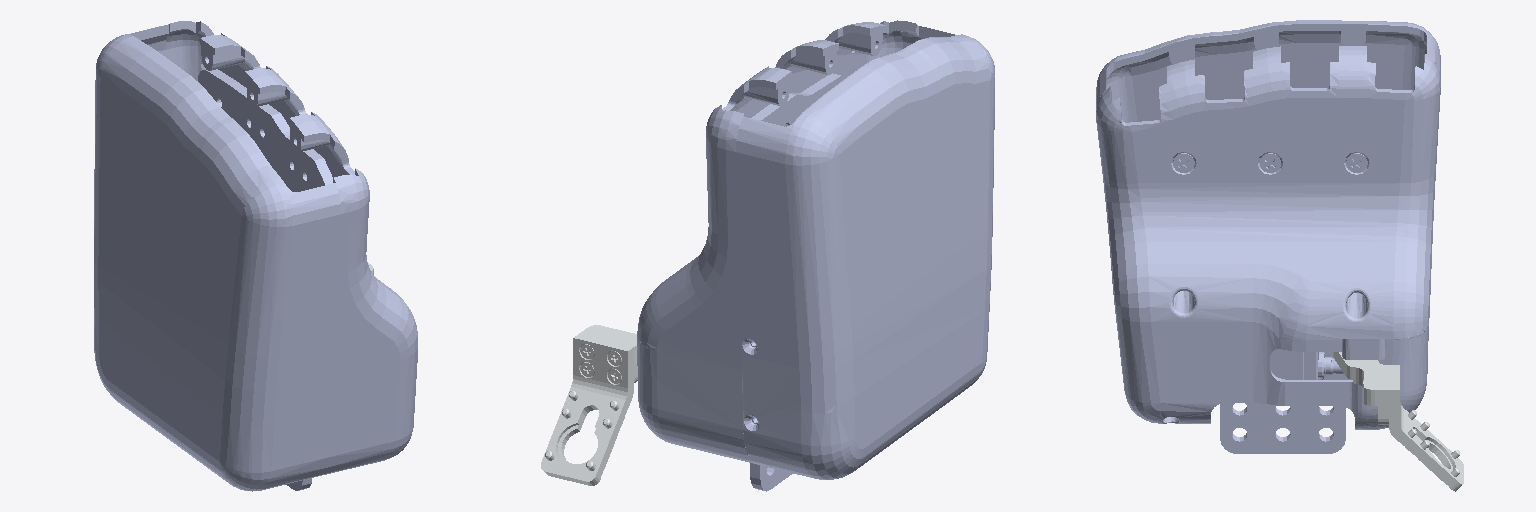
The robot description file, URDF, robot "palm_simple":
<?xml version="1.0" encoding="utf-8"?>
<!-- This URDF was automatically created by SolidWorks to URDF Exporter! Originally created by [author] ([email redacted]) 
     Commit Version: 1.6.0-4-g7f85cfe  Build Version: 1.6.7995.38578
     For more information, please see http://wiki.ros.org/sw_urdf_exporter -->
<robot
  name="palm_simple">
  <link
    name="Base">
    <inertial>
      <origin
        xyz=" -0.00225524 -0.00380216 0.04738621"
        rpy="0 0 0" />
      <mass
        value="0.17112843" />
      <inertia
        ixx="0.00021357"
        ixy="0.00000247"
        ixz="0.00001942"
        iyy="0.00015811"
        iyz="-0.00000822"
        izz="0.00013249" />
    </inertial>
    <visual>
      <origin
        xyz="0 0 0"
        rpy="0 0 0" />
      <geometry>
        <mesh
          filename="package://palm_simple/meshes/Base.STL" />
      </geometry>
      <material
        name="">
        <color
          rgba="0.792156862745098 0.819607843137255 0.933333333333333 1" />
      </material>
    </visual>
    <collision>
      <origin
        xyz="0 0 0"
        rpy="0 0 0" />
      <geometry>
        <mesh
          filename="package://palm_simple/meshes/Base.STL" />
      </geometry>
    </collision>
  </link>
  <link
    name="Link_1">
    <inertial>
      <origin
        xyz="0.01345591 0.00740936 -0.00938192"
        rpy="0 0 0" />
      <mass
        value="0.00822579" />
      <inertia
        ixx="0.00000113"
        ixy=" -0.00000028"
        ixz="0.00000021"
        iyy="0.00000115"
        iyz="0.00000050"
        izz="0.00000104" />
    </inertial>
    <visual>
      <origin
        xyz="0 0 0"
        rpy="0 0 0" />
      <geometry>
        <mesh
          filename="package://palm_simple/meshes/Link_1.STL" />
      </geometry>
      <material
        name="">
        <color
          rgba="0.898039215686275 0.917647058823529 0.929411764705882 1" />
      </material>
    </visual>
    <collision>
      <origin
        xyz="0 0 0"
        rpy="0 0 0" />
      <geometry>
        <mesh
          filename="package://palm_simple/meshes/Link_1.STL" />
      </geometry>
    </collision>
  </link>
  <joint
    name="Joint_1"
    type="continuous">
    <origin
      xyz="0.018 0.0224999999999999 0.0339999999999999"
      rpy="0 0 0" />
    <parent
      link="Base" />
    <child
      link="Link_1" />
    <axis
      xyz="0 0 1" />
  </joint>
</robot>

--- Facts derived from the render (not from the file) ---
Views: 3 orthographic renders of the robot side by side, from view 1: azimuth 30°, elevation 25°; view 2: azimuth 150°, elevation 25°; view 3: azimuth 270°, elevation 25°.
Robot: palm_simple — 2 links, 1 joints (1 continuous); root link Base; default pose: every joint at zero.
Links seen in each view (by area): view 1: Base; view 2: Base, Link_1; view 3: Base, Link_1.
Link boxes in pixels (x1=…): Base: x1=94, y1=21, x2=417, y2=491; Base: x1=637, y1=20, x2=994, y2=491; Link_1: x1=541, y1=325, x2=637, y2=485; Base: x1=1096, y1=20, x2=1440, y2=453; Link_1: x1=1333, y1=352, x2=1463, y2=491.
Size in the robot's own frame: 0.081 by 0.102 by 0.12 metres.
2 mesh visuals loaded from 2 distinct referenced files (2 binary STL).